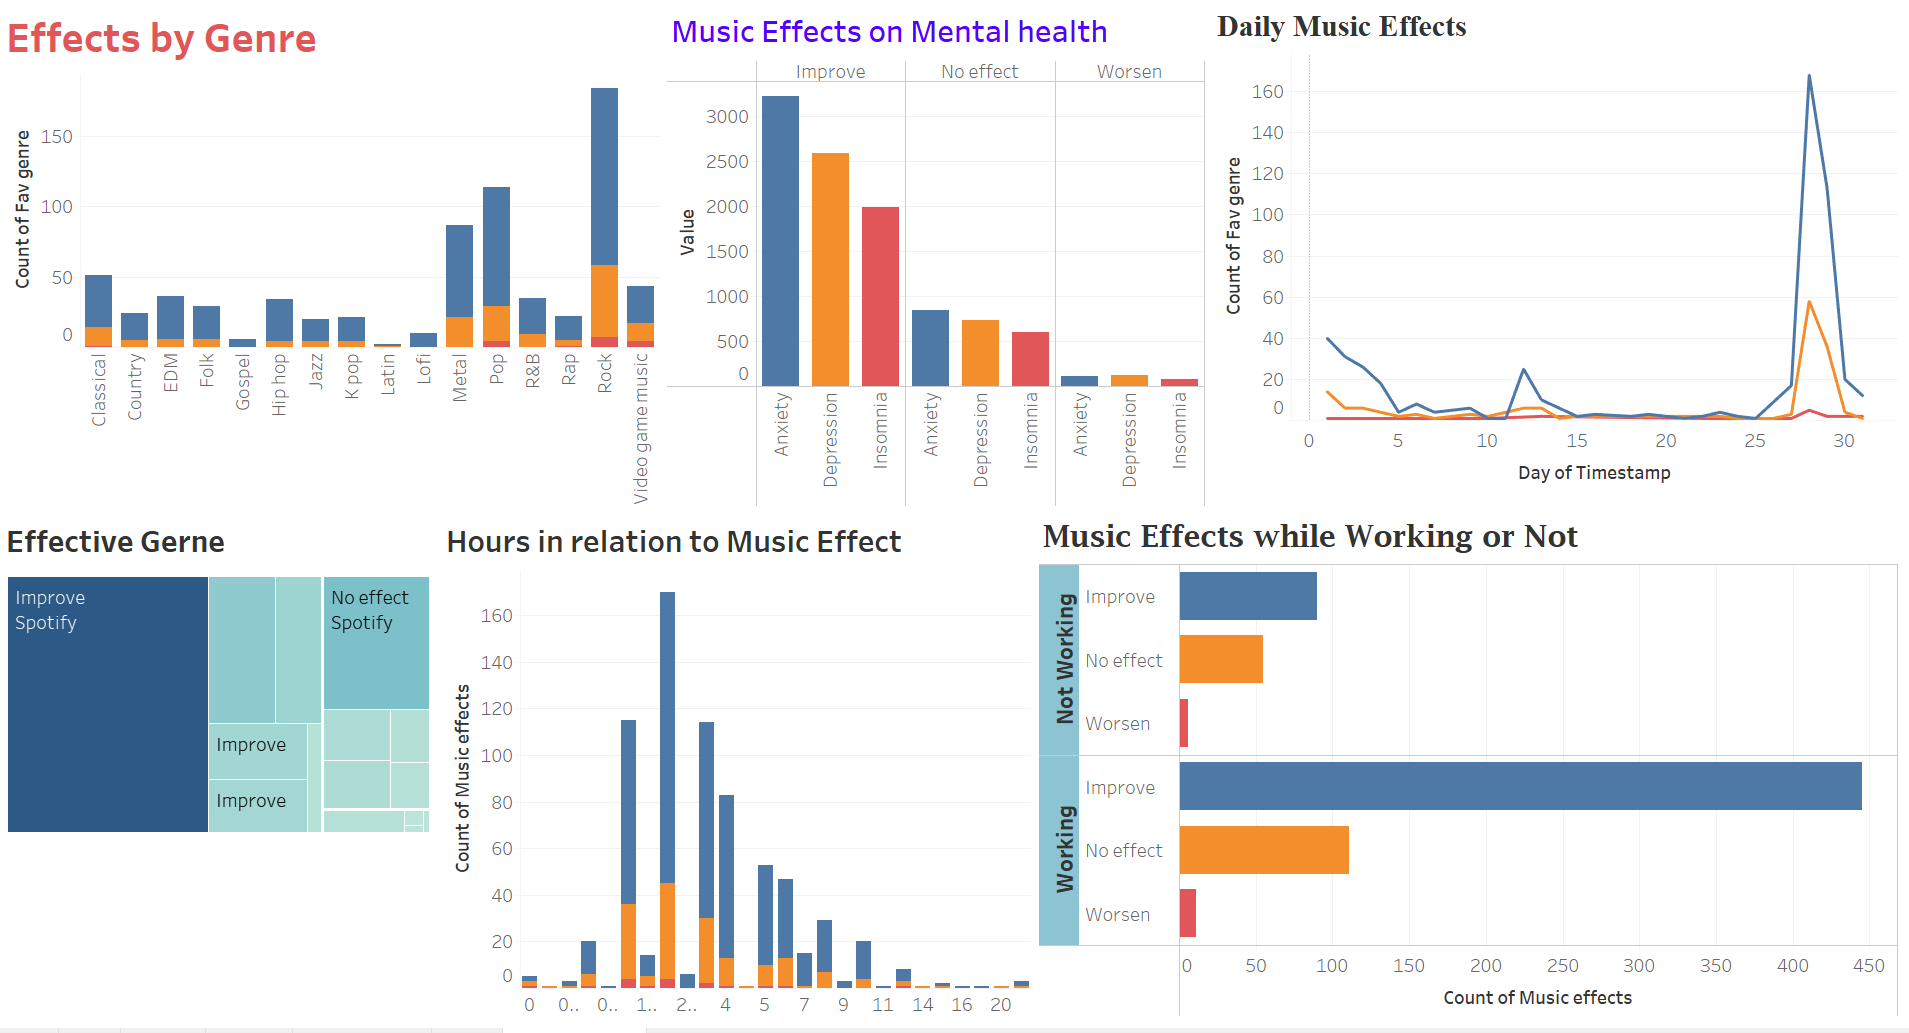

This screenshot's page, from the dashboard's own definition file:
{"tool":"tableau","page":{"name":"Dashboard 1","canvas":[1000,1000],"units":"permille","ordinal":0},"visuals":[{"type":"worksheet","title":"Sheet 1","mark":"Automatic","rows":["Fav genre"],"cols":["Fav genre"],"box":[5,9.1,345.9,490.9]},{"type":"worksheet","title":"Sheet 5","mark":"Automatic","cols":["Music effects"],"box":[350.9,9.1,283.7,490.9]},{"type":"worksheet","title":"Sheet 2","mark":"Automatic","rows":["Fav genre"],"cols":["Timestamp"],"box":[634.6,9.1,360.4,490.9]},{"type":"worksheet","title":"Sheet 3","mark":"Automatic","box":[5,500,228.8,490.9]},{"type":"worksheet","title":"Sheet 6","mark":"Automatic","rows":["Music effects"],"cols":["Hours per day"],"box":[233.8,500,310.5,490.9]},{"type":"worksheet","title":"Sheet 4","mark":"Automatic","rows":["While working","Music effects"],"cols":["Music effects"],"box":[544.2,500,450.8,490.9]}]}

Visuals, with their boxes on the dashboard's canvas, which has no fixed pixel size, in thousandths of its width and height (x1, y1, x2, y2). These are canvas units, not pixel positions in the 1909x1033 screenshot, which may show the page scaled, cropped or inside an application window:
"Sheet 1" worksheet: [left=5, top=9, right=351, bottom=500]
"Sheet 5" worksheet: [left=351, top=9, right=635, bottom=500]
"Sheet 2" worksheet: [left=635, top=9, right=995, bottom=500]
"Sheet 3" worksheet: [left=5, top=500, right=234, bottom=991]
"Sheet 6" worksheet: [left=234, top=500, right=544, bottom=991]
"Sheet 4" worksheet: [left=544, top=500, right=995, bottom=991]
